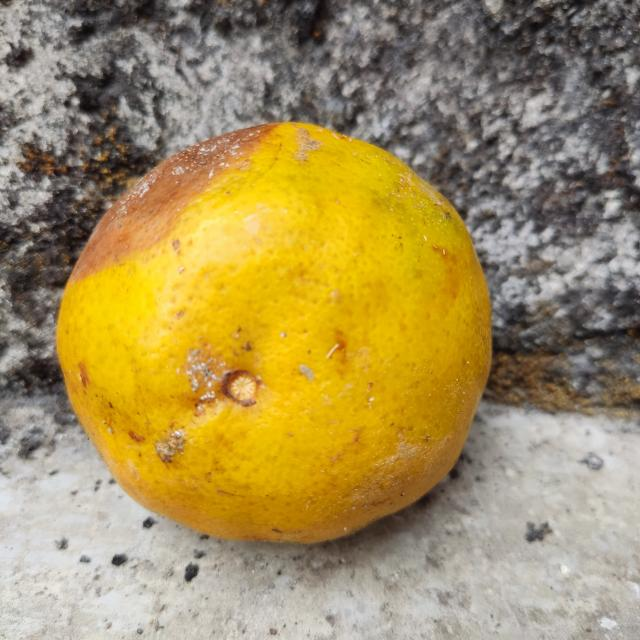orange: (48, 121, 494, 546)
